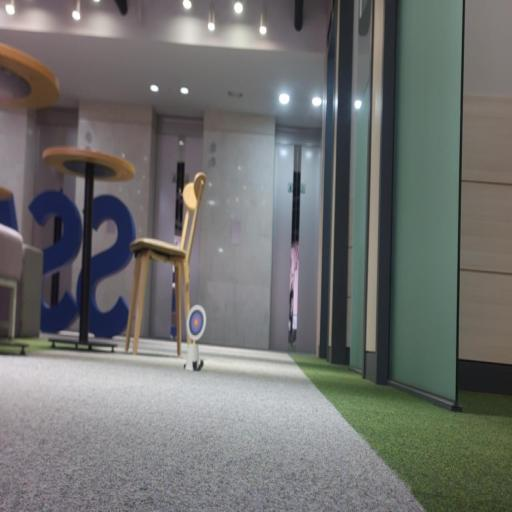target: (187, 304, 206, 341)
